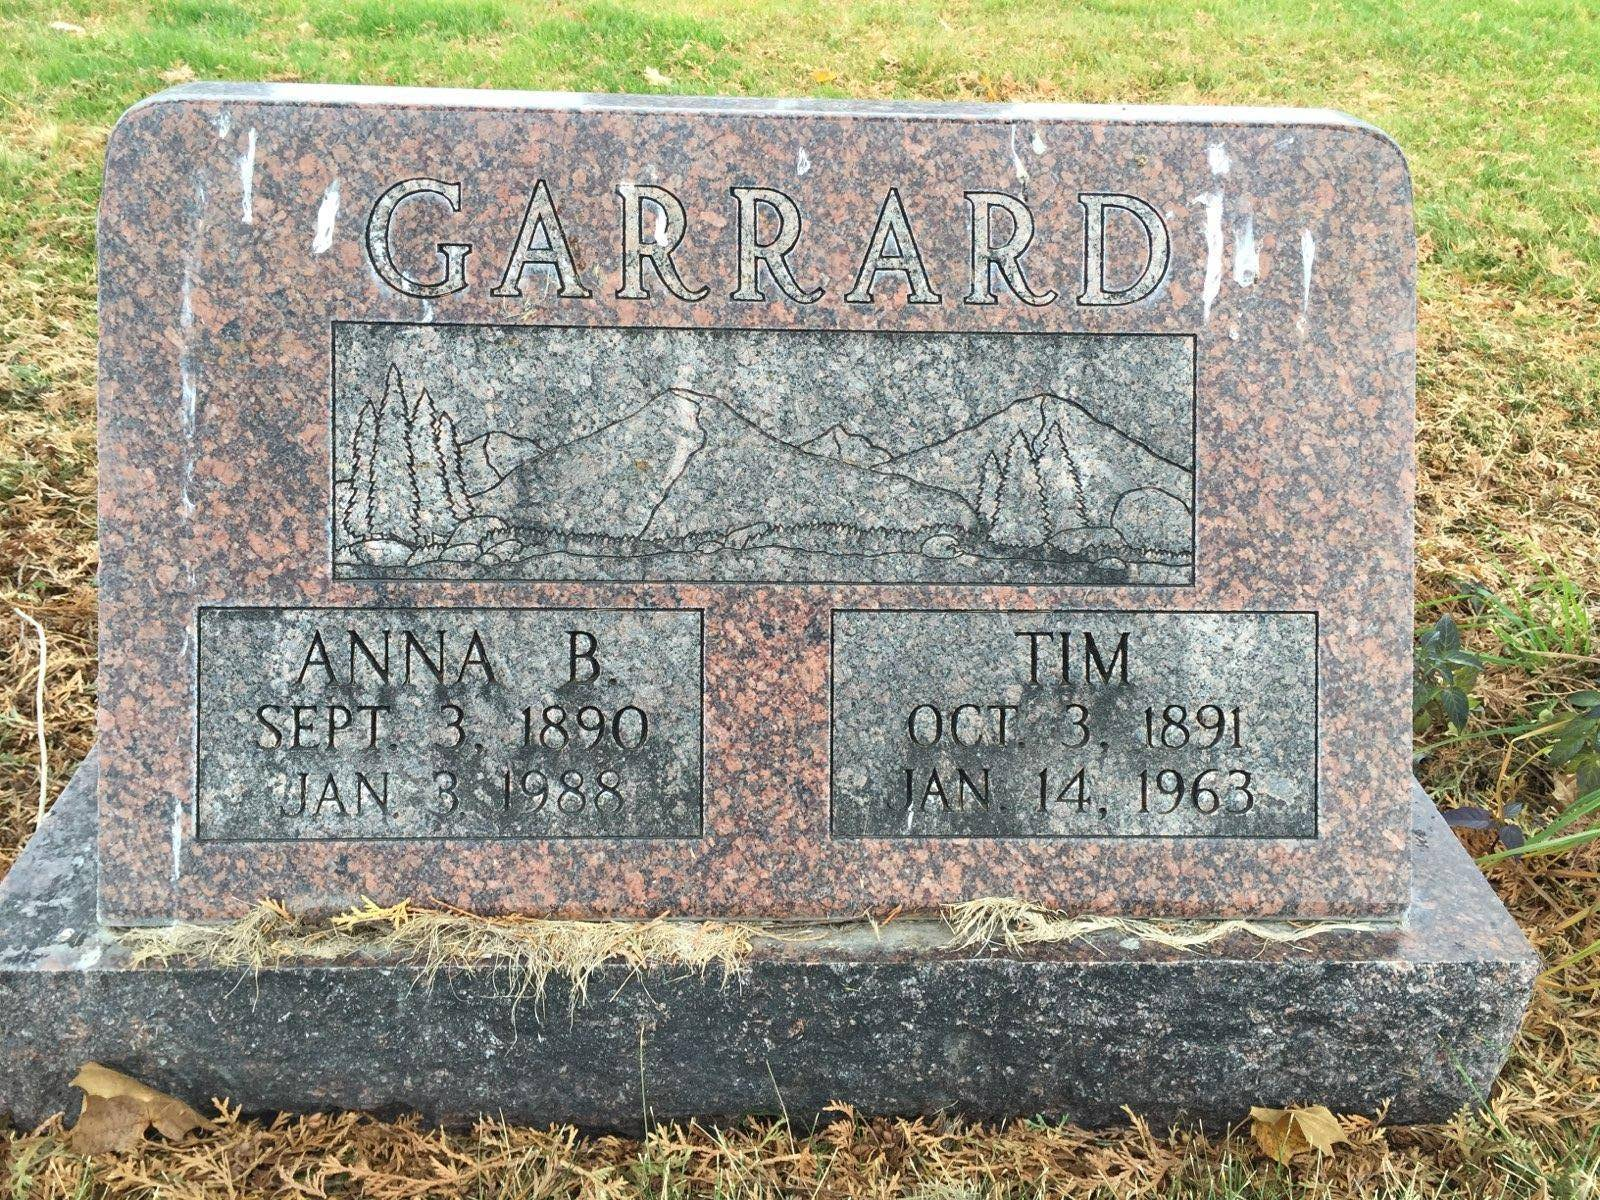upright: (8, 77, 1475, 1134)
